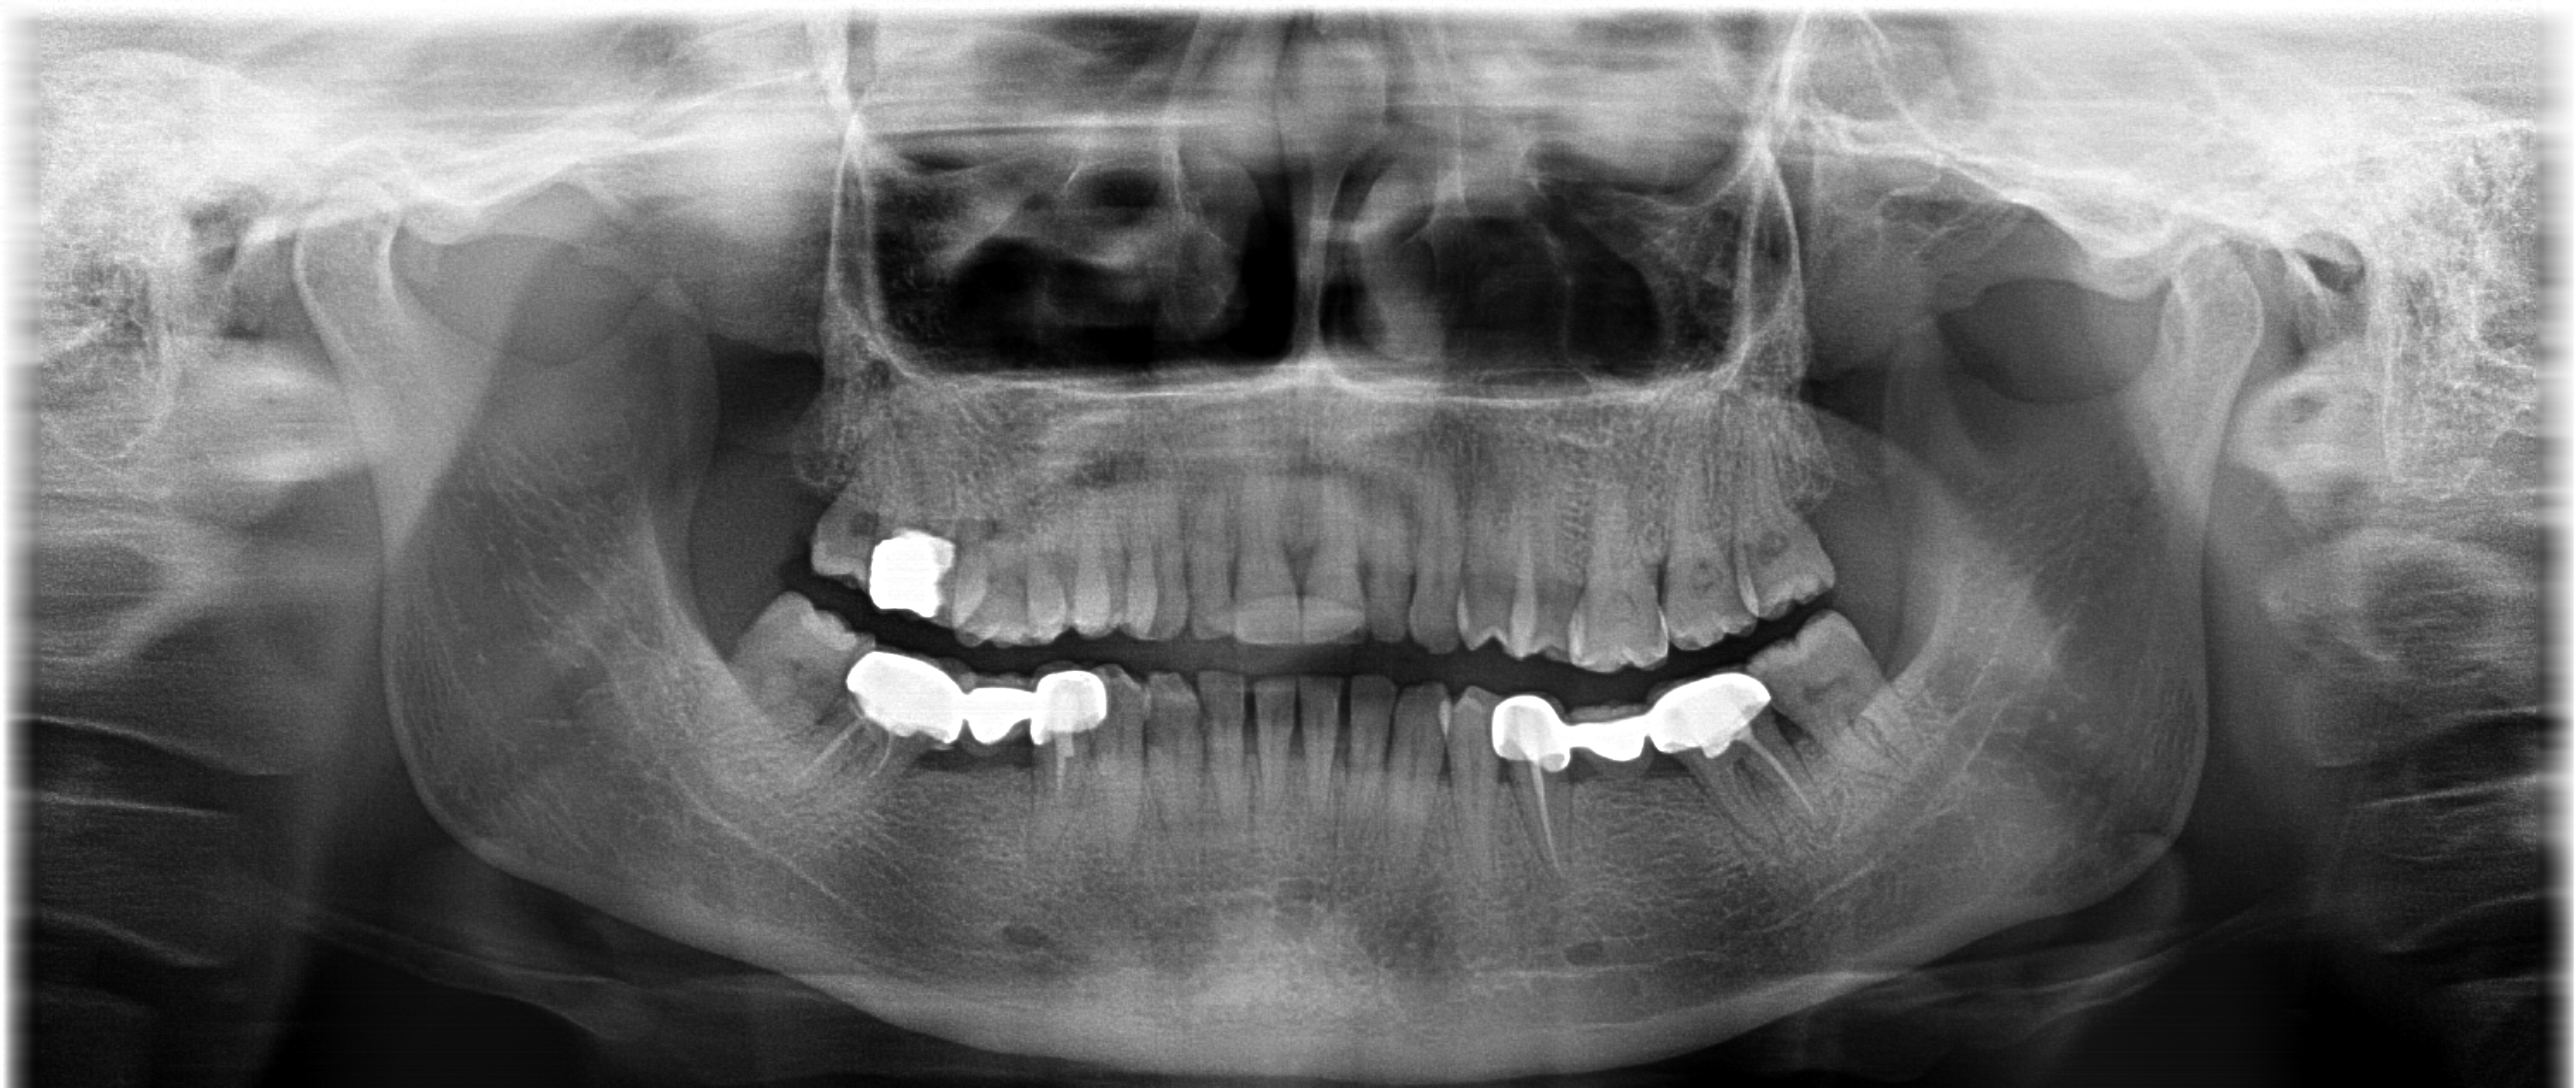apinamiento: (913, 529, 1283, 669)
cordal: (1727, 605, 1963, 791), (665, 580, 885, 771), (1714, 424, 1879, 620)
tratamiento_conducto: (1653, 667, 1851, 863), (1485, 674, 1594, 912), (1030, 661, 1114, 878)
